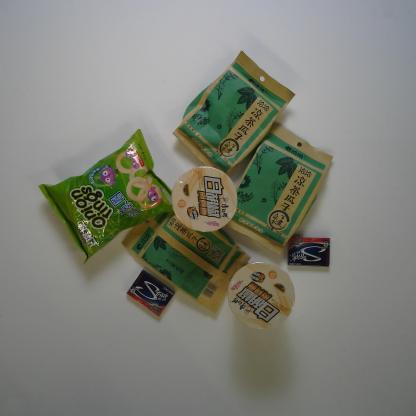Dried Food: (172, 49, 298, 176), (224, 122, 334, 255), (120, 209, 252, 314)
Gum: (126, 268, 176, 317), (287, 236, 331, 268)
Instant Noodles: (227, 261, 296, 331), (171, 164, 238, 235)
Puffed Food: (38, 127, 173, 265)
